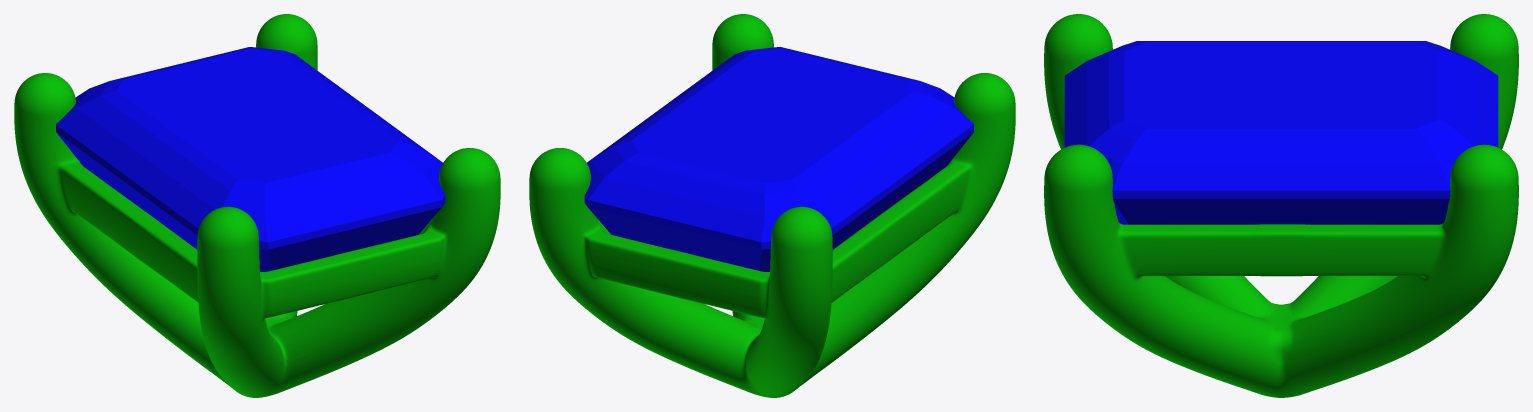
3 views of the same model, side by side, from view 1: azimuth 30°, elevation 25°; view 2: azimuth 150°, elevation 25°; view 3: azimuth 270°, elevation 25° (orthographic). The views are drawn at different scales.
Parts seen in each view (by area): view 1: Metal01, Diamond_Emerald; view 2: Metal01, Diamond_Emerald; view 3: Metal01, Diamond_Emerald.
Part boxes in pixels (box(x1,y1,x2,y2)): Metal01: box(14, 14, 500, 397); Diamond_Emerald: box(56, 47, 445, 271); Metal01: box(529, 14, 1015, 397); Diamond_Emerald: box(584, 47, 974, 271); Metal01: box(1044, 14, 1518, 397); Diamond_Emerald: box(1064, 41, 1498, 224).
Size of the model in its own units: 7.34 by 6.58 by 9.22.
